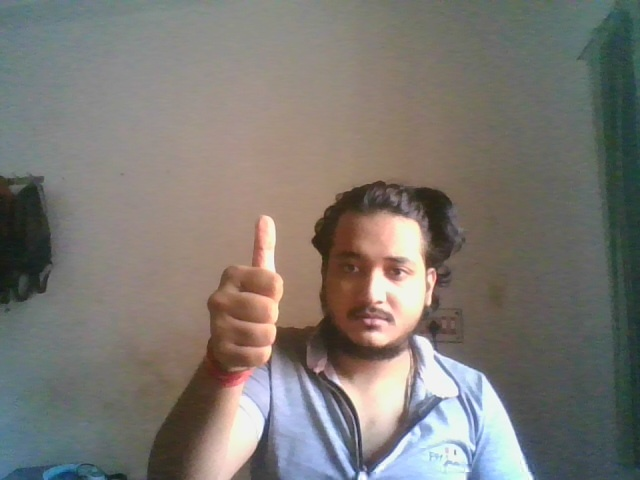ThumbsUp: (207, 214, 283, 372)
